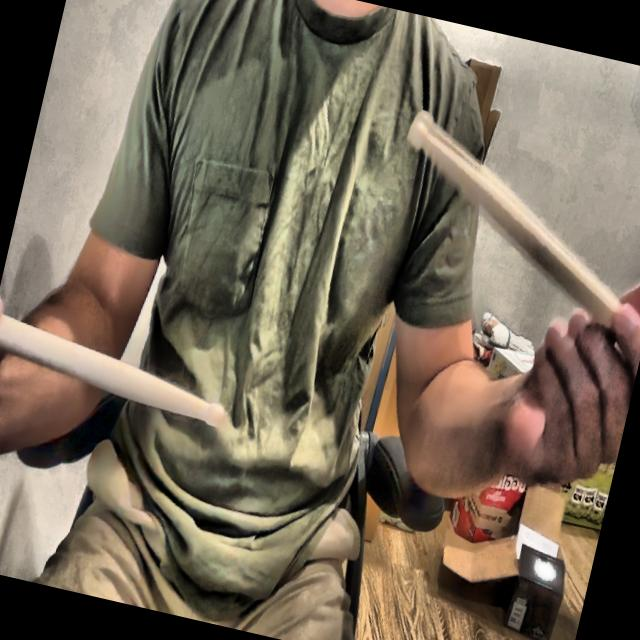Drumstick-Heads: (396, 104, 442, 164), (197, 395, 229, 438)
